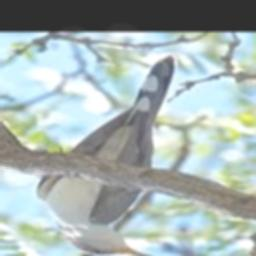Cuckoo: (36, 55, 176, 256)
